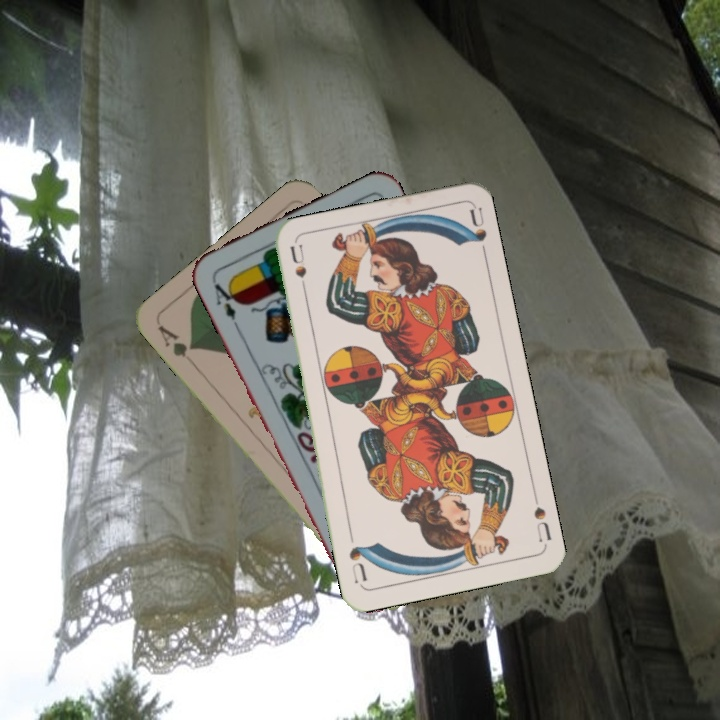EA: (210, 275, 241, 323)
GA: (153, 321, 197, 360)
SU: (286, 242, 310, 301), (530, 503, 554, 544)
